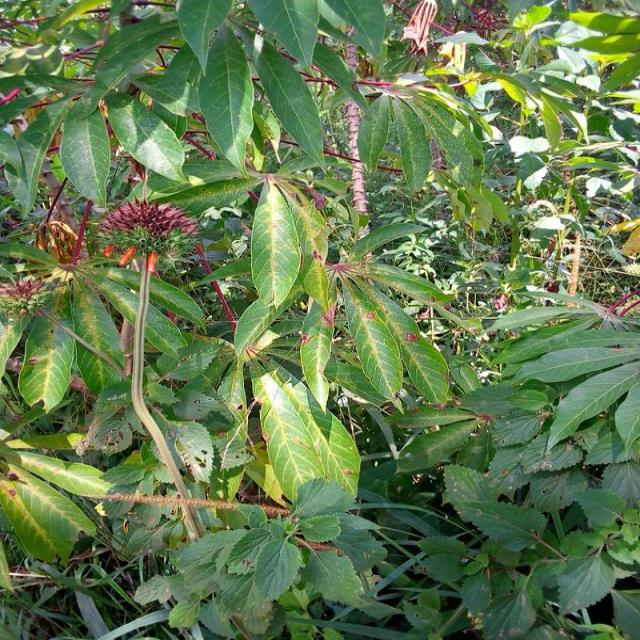cassava leaf: (255, 362, 362, 506), (250, 173, 304, 311)
